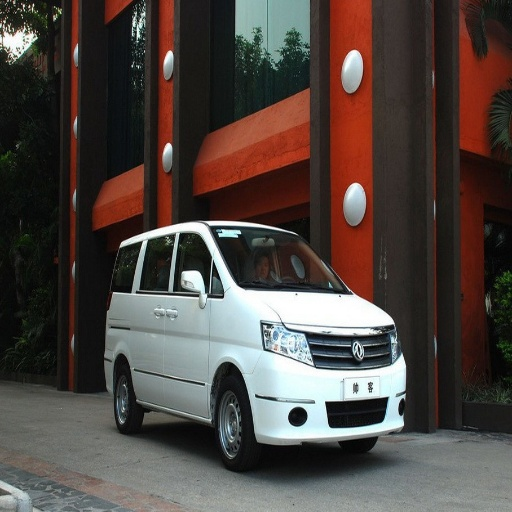front_bumper: (247, 327, 410, 442)
front_right_door: (165, 229, 217, 414)
front_right_light: (261, 321, 313, 365)
